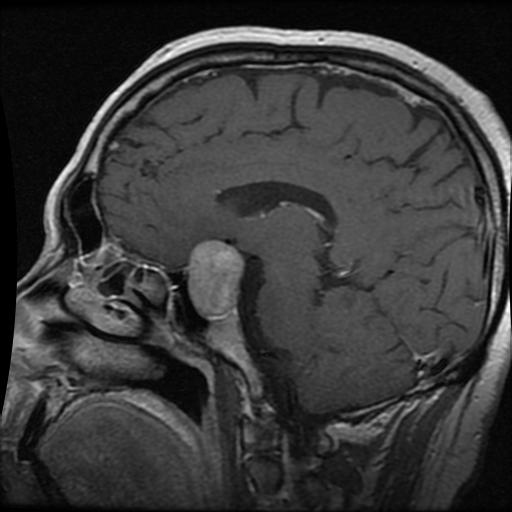Pituirity_tumour: (186, 240, 243, 318)
